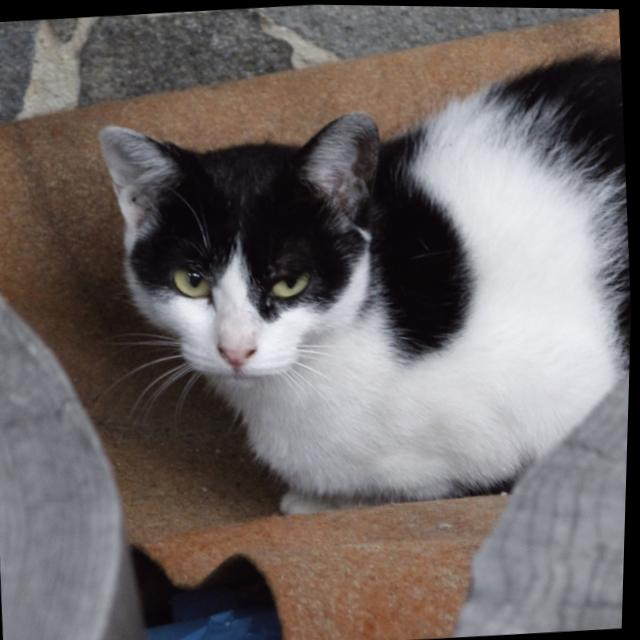animals: (100, 109, 382, 375)
